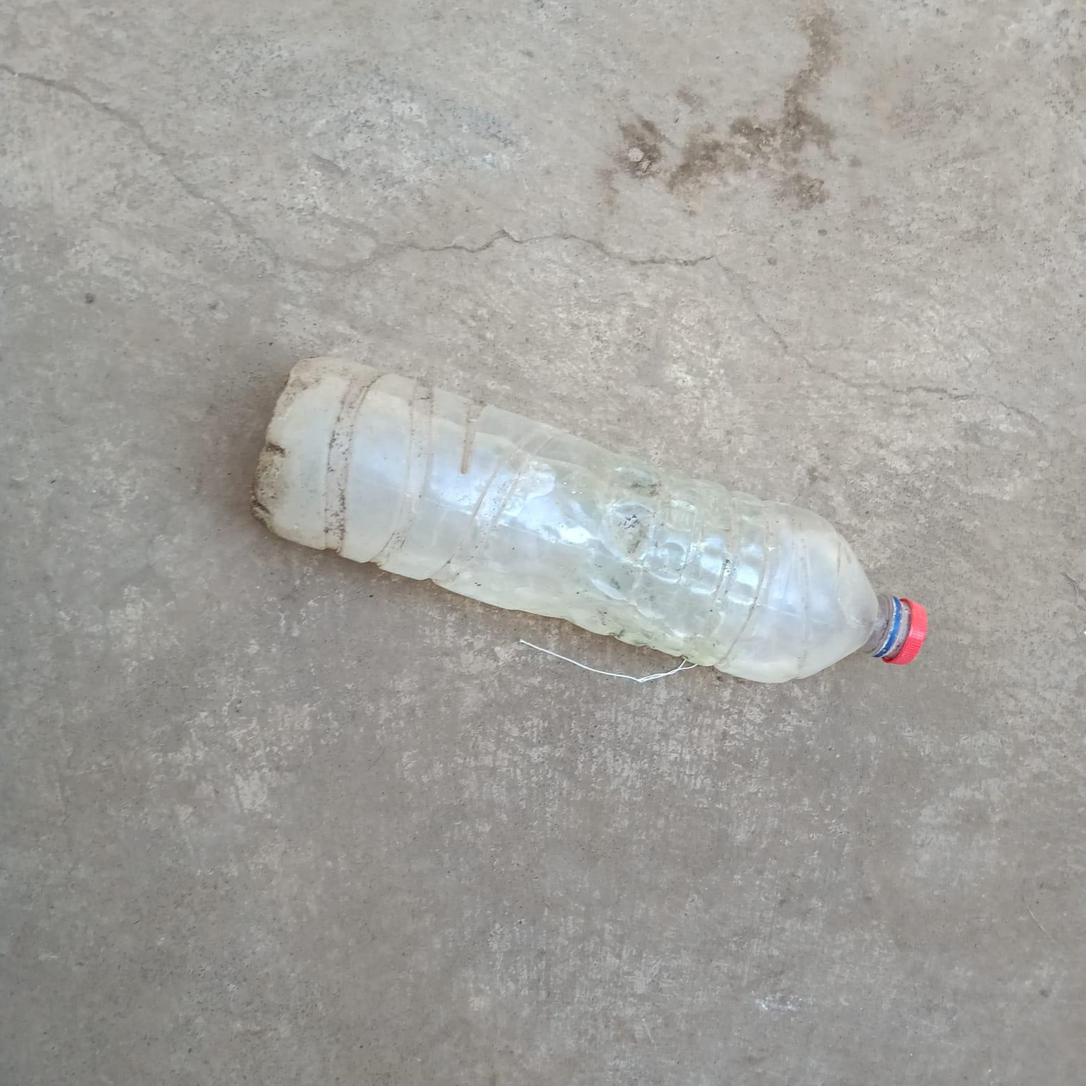Plastik: (253, 353, 930, 684)
